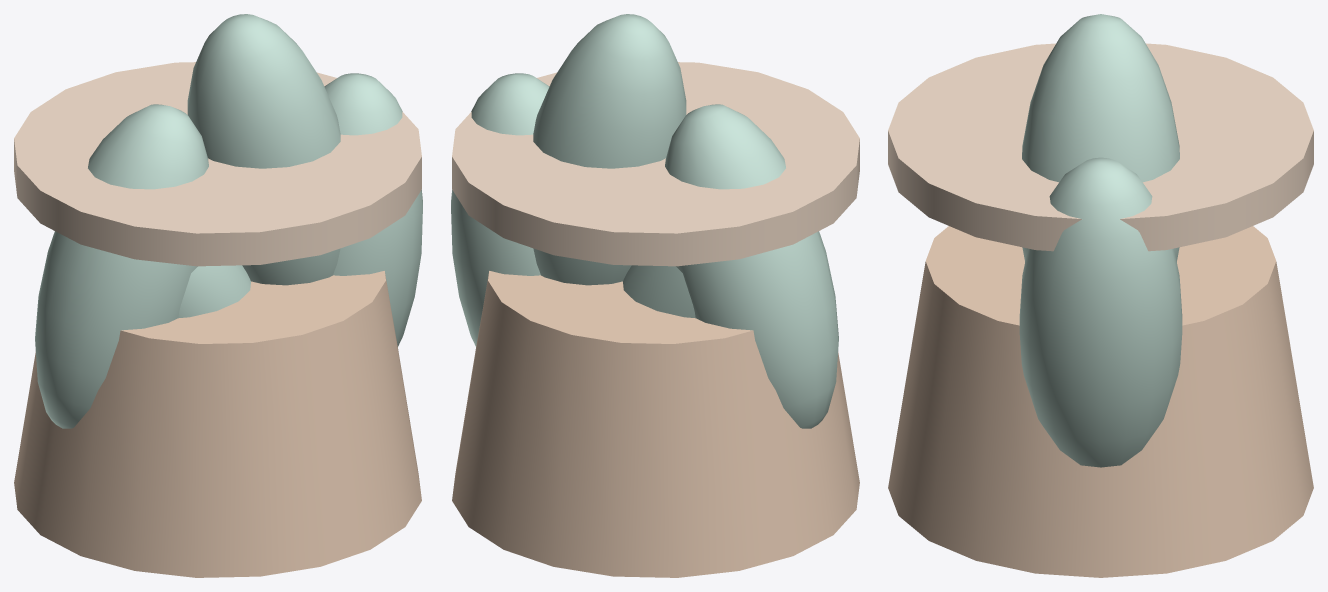
Rendered from o_plant.glb.
The picture shows the model from 3 angles, left to right: view 1: azimuth 30°, elevation 25°; view 2: azimuth 150°, elevation 25°; view 3: azimuth 270°, elevation 25°; orthographic projection. The views are drawn at different scales.
Visible parts, largest first — view 1: o_plant; view 2: o_plant; view 3: o_plant.
Part boxes in pixels (bbox=[...]): o_plant: bbox=[14, 14, 422, 577]; o_plant: bbox=[451, 14, 859, 577]; o_plant: bbox=[888, 14, 1313, 577].
Bounding box in the file's own units: 0.3573 × 0.427 × 0.34.
